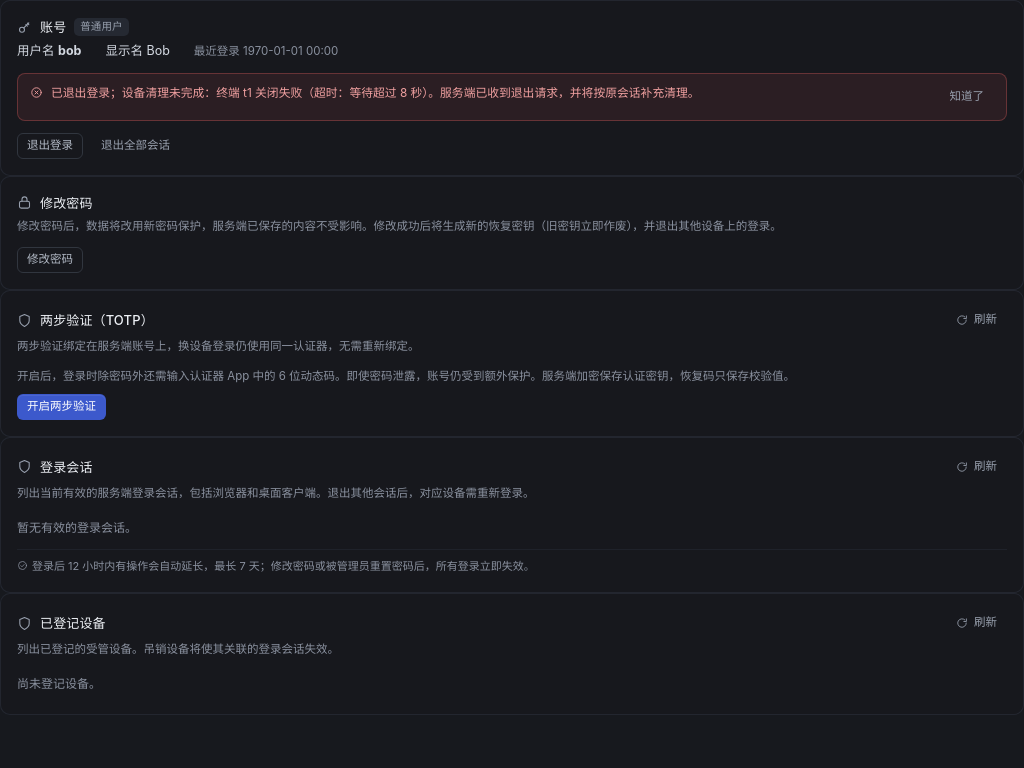
it: AuthCard cleanup evidence › shows cleanup failure and fallback details in ready state and dismisses them explicitly
Expected: the message "已退出登录；设备清理未完成：终端 t1 关闭失败（超时：等待超过 8 秒）。服务端已收到退出请求，并将按原会话补充清理。 知道了" is shown, x1=17 y1=72 x2=1007 y2=120
Click the button "知道了".
click(967, 96)  # box x1=940 y1=84 x2=994 y2=110
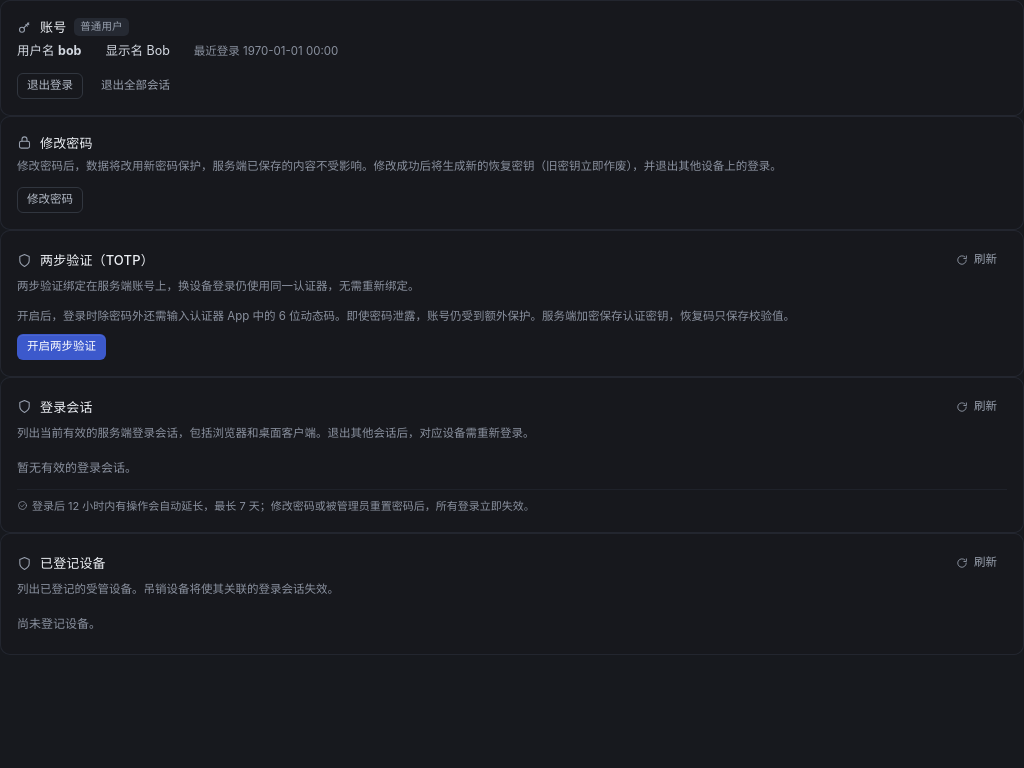
Expected: the message "已退出登录；设备清理未完成：终端 t1 关闭失败（超时：等待超过 8 秒）。服务端已收到退出请求，并将按原会话补充清理。 知道了" is gone
